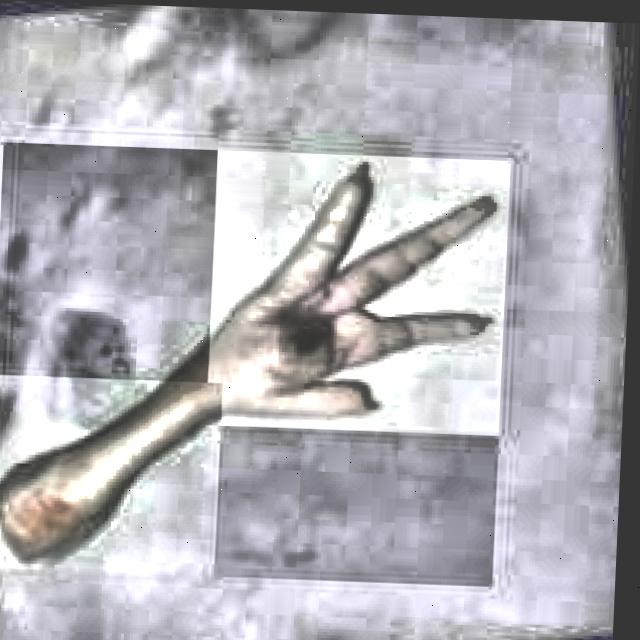Bumble foot: (289, 319, 328, 366)
